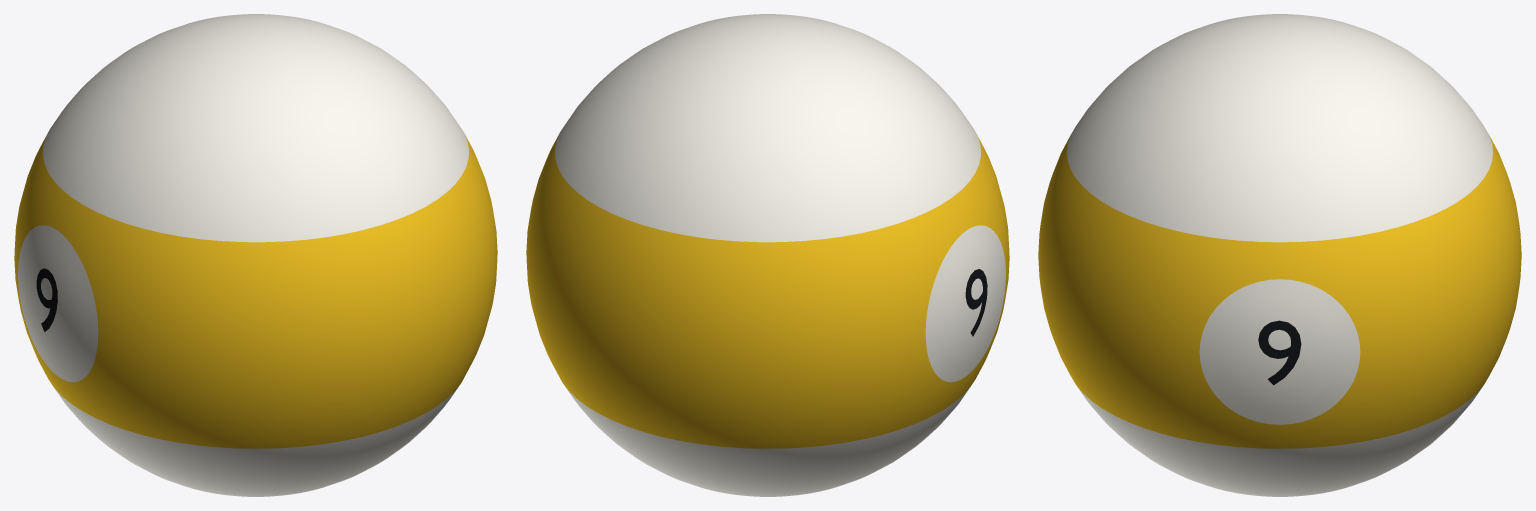
The model's file is ball_09.glb.
The picture shows the model from 3 angles, left to right: view 1: azimuth 30°, elevation 25°; view 2: azimuth 150°, elevation 25°; view 3: azimuth 270°, elevation 25°; orthographic projection.
Parts seen in each view (by area): view 1: Ball 09 | resin, Ball 09 | number medallion | opposite, Ball 09 | numeral 9 | opposite; view 2: Ball 09 | resin, Ball 09 | number medallion | opposite, Ball 09 | numeral 9 | opposite; view 3: Ball 09 | resin, Ball 09 | number medallion, Ball 09 | numeral 9.
Boxes of the visible parts, left/top/right/bottom form: Ball 09 | resin: left=14, top=14, right=497, bottom=496; Ball 09 | number medallion | opposite: left=18, top=225, right=98, bottom=382; Ball 09 | numeral 9 | opposite: left=36, top=268, right=57, bottom=331; Ball 09 | resin: left=526, top=14, right=1009, bottom=496; Ball 09 | number medallion | opposite: left=925, top=225, right=1005, bottom=382; Ball 09 | numeral 9 | opposite: left=965, top=269, right=987, bottom=336; Ball 09 | resin: left=1038, top=14, right=1521, bottom=496; Ball 09 | number medallion: left=1199, top=279, right=1360, bottom=424; Ball 09 | numeral 9: left=1258, top=320, right=1301, bottom=385.
Bounding box in the file's own units: 0.0573 × 0.0571 × 0.0571.
